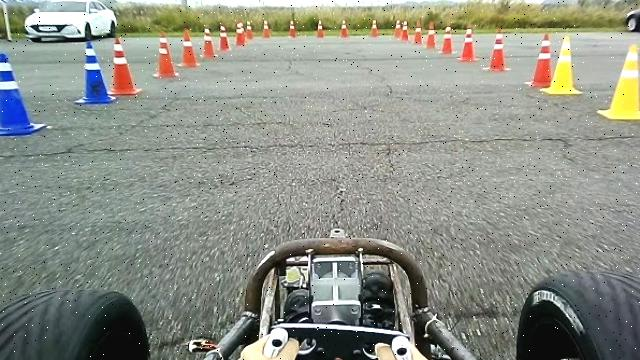blue cone: (0, 52, 46, 136), (73, 40, 116, 103)
red cone: (107, 36, 142, 94), (524, 32, 552, 88), (152, 31, 178, 78), (482, 28, 510, 71), (175, 27, 200, 68), (456, 27, 479, 61), (199, 26, 218, 59), (438, 25, 453, 53), (425, 21, 436, 49), (218, 25, 230, 50), (412, 18, 422, 44), (235, 22, 246, 45), (400, 19, 409, 40), (245, 19, 253, 39), (262, 19, 270, 38), (339, 20, 348, 36), (369, 20, 378, 36), (394, 19, 402, 36), (316, 20, 324, 36), (288, 20, 296, 36)
yellow cone: (596, 43, 640, 121)
